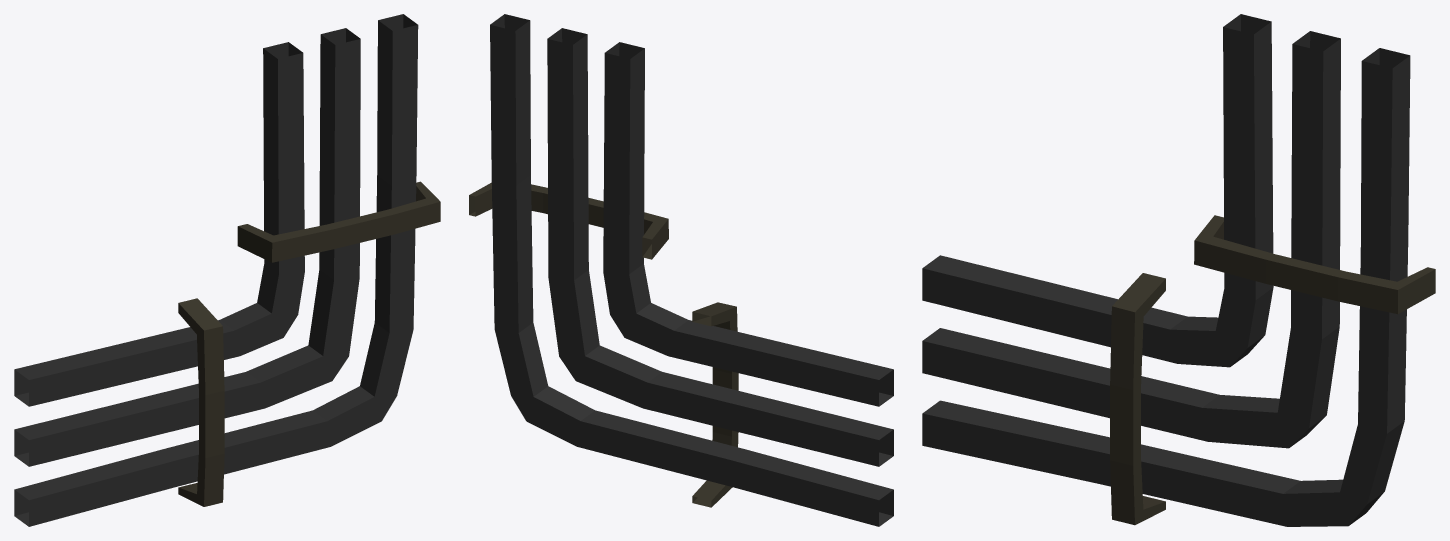
File: SW_ENV_Wires3_FlatWall_90dTurn.fbx
The picture shows the model from 3 angles, left to right: view 1: azimuth 30°, elevation 25°; view 2: azimuth 150°, elevation 25°; view 3: azimuth 330°, elevation 25°; orthographic projection. The views are drawn at different scales.
Parts seen in each view (by area): view 1: SW_ENV_Wires3_FlatWall_90dTurn; view 2: SW_ENV_Wires3_FlatWall_90dTurn; view 3: SW_ENV_Wires3_FlatWall_90dTurn.
Part boxes in pixels (bbox=[...]): SW_ENV_Wires3_FlatWall_90dTurn: bbox=[14, 14, 440, 526]; SW_ENV_Wires3_FlatWall_90dTurn: bbox=[469, 14, 893, 526]; SW_ENV_Wires3_FlatWall_90dTurn: bbox=[922, 14, 1435, 526].
Bounding box in the file's own units: 63.98 × 63.98 × 7.36.
